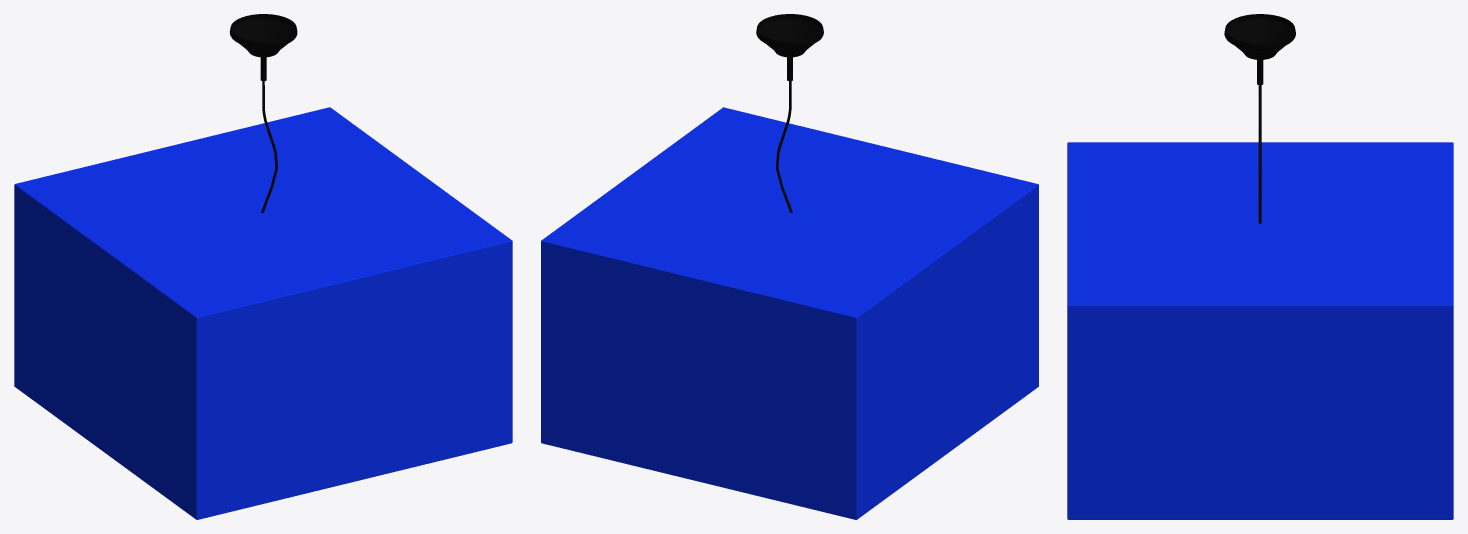
Rendered from lamp_top.FBX.
3 views of the same model, side by side, from view 1: azimuth 30°, elevation 25°; view 2: azimuth 150°, elevation 25°; view 3: azimuth 270°, elevation 25° (orthographic). The views are drawn at different scales.
Parts seen in each view (by area): view 1: lamp, base; view 2: lamp, base; view 3: lamp, base.
Boxes of the visible parts, x1,y1,x2,y2 form: lamp: [14, 107, 512, 519]; base: [230, 14, 297, 212]; lamp: [541, 107, 1038, 519]; base: [756, 14, 823, 212]; lamp: [1067, 142, 1453, 519]; base: [1224, 14, 1295, 223].
Size of the model in its own units: 60 by 70.23 by 60.
